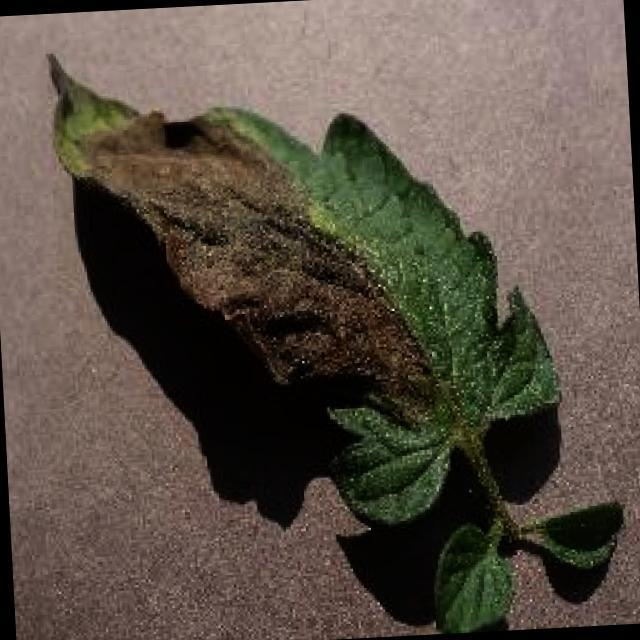Tomato healthy leaf: (431, 522, 516, 634)
Tomato late blight leaf: (41, 24, 570, 535)
